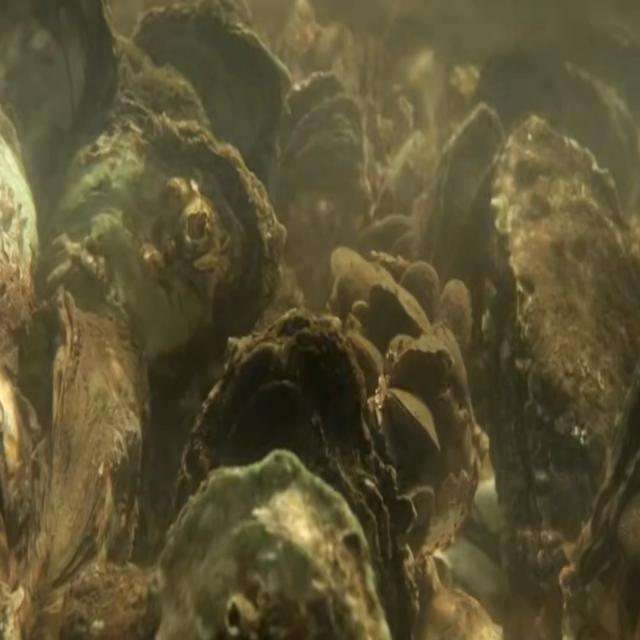Oyster-Closed: (54, 111, 288, 525), (177, 307, 417, 640), (480, 115, 640, 558), (154, 448, 392, 640), (386, 387, 440, 450), (392, 346, 456, 394)
Oyster-Indeterminate: (21, 285, 150, 640), (423, 100, 507, 332), (368, 279, 431, 333), (401, 260, 440, 331), (438, 278, 472, 353)
Oyster-Open: (268, 72, 364, 284)
